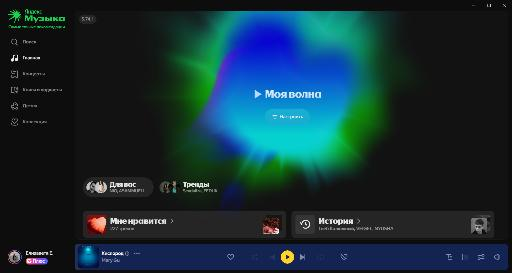yandexmusic: (1, 0, 512, 273)
